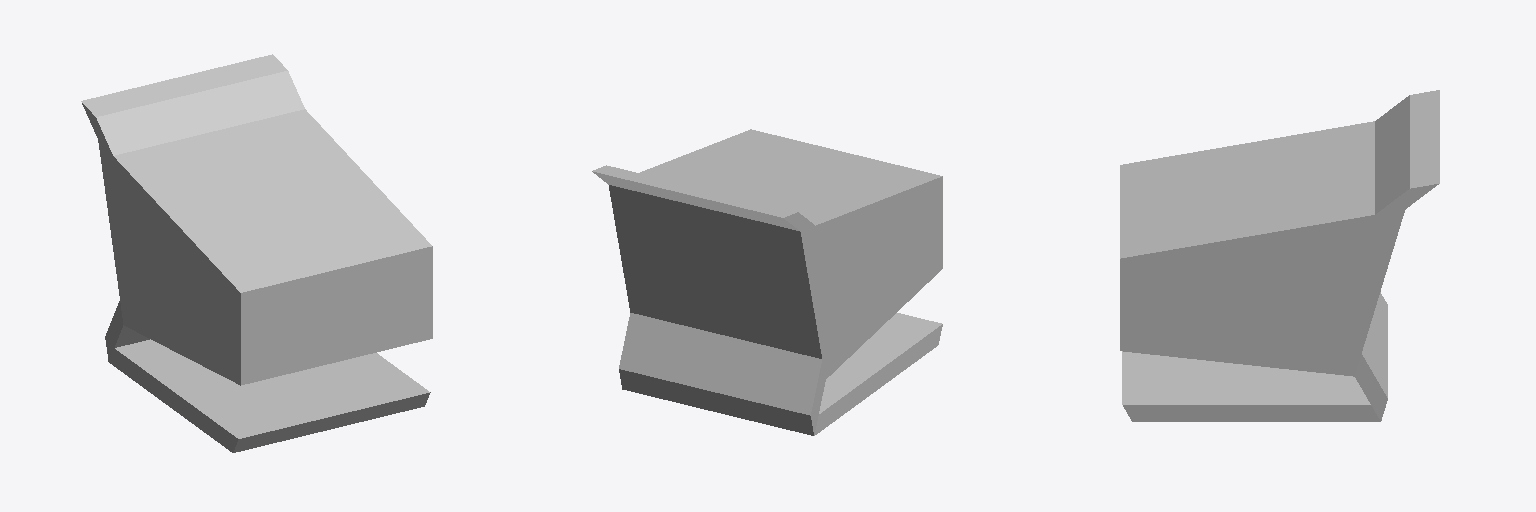
The model's file is CartBlue.obj.
The picture shows the model from 3 angles: view 1: azimuth 30°, elevation 25°; view 2: azimuth 150°, elevation 25°; view 3: azimuth 270°, elevation 25°; orthographic projection.
Parts seen in each view (by area): view 1: Cube; view 2: Cube; view 3: Cube.
Boxes of the visible parts, x1,y1,x2,y2 form: Cube: [81, 54, 432, 452]; Cube: [592, 129, 942, 435]; Cube: [1120, 90, 1439, 421].
Size of the model in its own units: 3.5 by 4.13 by 5.